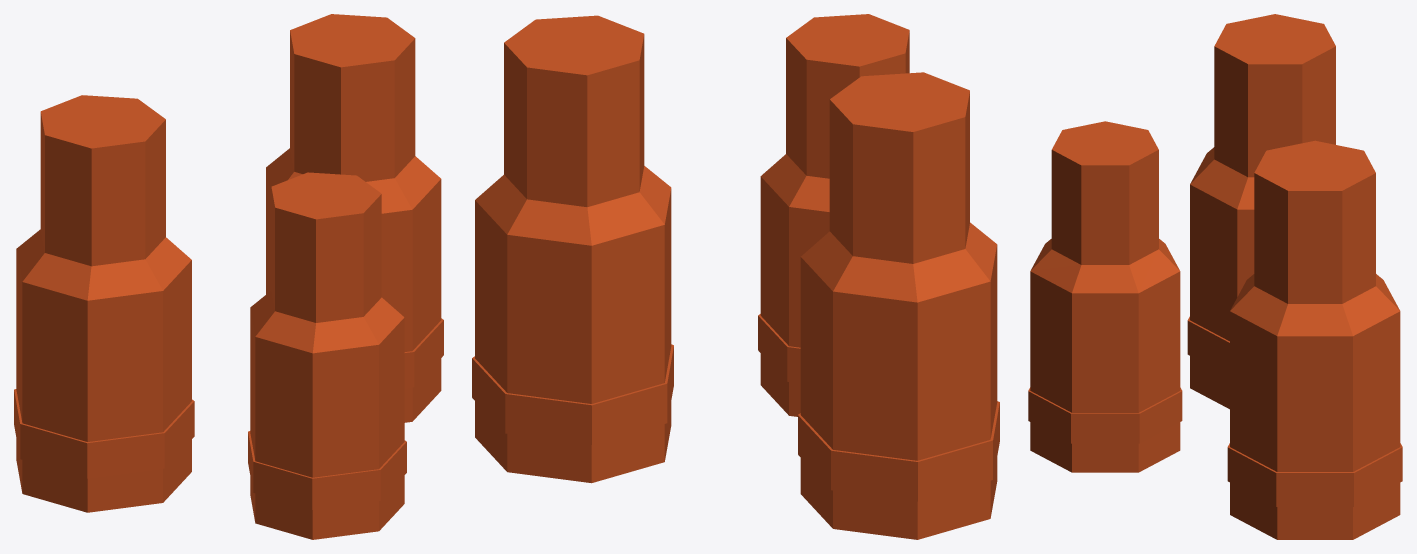
The model's file is ce_ammo2_flare_chem_b.obj.
3 views of the same model, side by side, from view 1: azimuth 30°, elevation 25°; view 2: azimuth 150°, elevation 25°; view 3: azimuth 270°, elevation 25° (orthographic). The views are drawn at different scales.
Parts seen in each view (by area): view 1: ce_ammo2_flare_chem_b_2, ce_ammo2_flare_chem_b_4, ce_ammo2_flare_chem_b_12, ce_ammo2_flare_chem_b_9, ce_ammo2_flare_chem_b_14, ce_ammo2_flare_chem_b_7, ce_ammo2_flare_chem_b_1, ce_ammo2_flare_chem_b_3, ce_ammo2_flare_chem_b_0, ce_ammo2_flare_chem_b_11, ce_ammo2_flare_chem_b_13, ce_ammo2_flare_chem_b_10 (+3 smaller); view 2: ce_ammo2_flare_chem_b_2, ce_ammo2_flare_chem_b_7, ce_ammo2_flare_chem_b_4, ce_ammo2_flare_chem_b_9, ce_ammo2_flare_chem_b_14, ce_ammo2_flare_chem_b_1, ce_ammo2_flare_chem_b_6, ce_ammo2_flare_chem_b_3, ce_ammo2_flare_chem_b_8, ce_ammo2_flare_chem_b_0, ce_ammo2_flare_chem_b_5, ce_ammo2_flare_chem_b_12 (+3 smaller); view 3: ce_ammo2_flare_chem_b_7, ce_ammo2_flare_chem_b_9, ce_ammo2_flare_chem_b_12, ce_ammo2_flare_chem_b_4, ce_ammo2_flare_chem_b_14, ce_ammo2_flare_chem_b_2, ce_ammo2_flare_chem_b_6, ce_ammo2_flare_chem_b_8, ce_ammo2_flare_chem_b_5, ce_ammo2_flare_chem_b_11, ce_ammo2_flare_chem_b_10, ce_ammo2_flare_chem_b_13 (+3 smaller).
Boxes of the visible parts, box(x1,y1,x2,y2) form: ce_ammo2_flare_chem_b_2: box(16, 249, 191, 441); ce_ammo2_flare_chem_b_4: box(40, 95, 165, 266); ce_ammo2_flare_chem_b_12: box(250, 309, 404, 477); ce_ammo2_flare_chem_b_9: box(290, 14, 415, 181); ce_ammo2_flare_chem_b_14: box(271, 172, 381, 322); ce_ammo2_flare_chem_b_7: box(266, 169, 441, 351); ce_ammo2_flare_chem_b_1: box(14, 389, 194, 478); ce_ammo2_flare_chem_b_3: box(16, 229, 191, 300); ce_ammo2_flare_chem_b_0: box(16, 439, 191, 512); ce_ammo2_flare_chem_b_11: box(248, 431, 406, 509); ce_ammo2_flare_chem_b_13: box(250, 290, 404, 353); ce_ammo2_flare_chem_b_10: box(250, 475, 404, 539); ce_ammo2_flare_chem_b_2: box(800, 245, 997, 460); ce_ammo2_flare_chem_b_7: box(475, 189, 671, 403); ce_ammo2_flare_chem_b_4: box(829, 72, 969, 263); ce_ammo2_flare_chem_b_9: box(504, 15, 644, 207); ce_ammo2_flare_chem_b_14: box(786, 14, 909, 178); ce_ammo2_flare_chem_b_1: box(798, 401, 999, 501); ce_ammo2_flare_chem_b_6: box(472, 344, 673, 444); ce_ammo2_flare_chem_b_3: box(801, 222, 996, 302); ce_ammo2_flare_chem_b_8: box(475, 166, 671, 245); ce_ammo2_flare_chem_b_0: box(800, 457, 997, 539); ce_ammo2_flare_chem_b_5: box(475, 401, 671, 483); ce_ammo2_flare_chem_b_12: box(760, 176, 829, 347); ce_ammo2_flare_chem_b_7: box(1230, 311, 1400, 471); ce_ammo2_flare_chem_b_9: box(1254, 140, 1375, 303); ce_ammo2_flare_chem_b_12: box(1030, 271, 1180, 412); ce_ammo2_flare_chem_b_4: box(1214, 14, 1335, 177); ce_ammo2_flare_chem_b_14: box(1051, 121, 1158, 264); ce_ammo2_flare_chem_b_2: box(1190, 184, 1254, 341); ce_ammo2_flare_chem_b_6: box(1227, 443, 1402, 506); ce_ammo2_flare_chem_b_8: box(1230, 274, 1399, 336); ce_ammo2_flare_chem_b_5: box(1230, 482, 1400, 539); ce_ammo2_flare_chem_b_11: box(1028, 387, 1182, 443); ce_ammo2_flare_chem_b_10: box(1030, 422, 1180, 472); ce_ammo2_flare_chem_b_13: box(1030, 239, 1179, 293).
Bounding box in the file's own units: 0.4711 × 0.375 × 0.3749.
